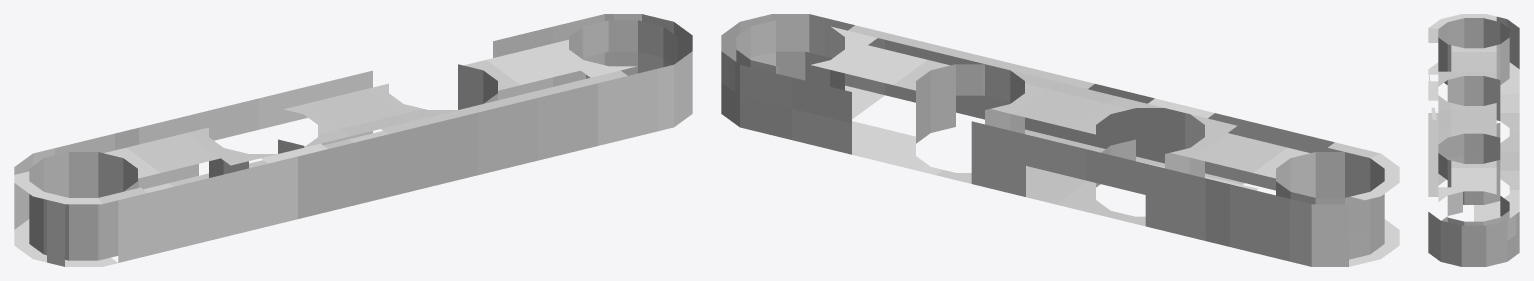
File: bracket4x.obj
3 renders of one model, left to right at view 1: azimuth 30°, elevation 25°; view 2: azimuth 150°, elevation 25°; view 3: azimuth 270°, elevation 25°, orthographic. The views are drawn at different scales.
Parts seen in each view (by area): view 1: tube; view 2: tube; view 3: tube.
Boxes of the visible parts, x1,y1,x2,y2 form: tube: (14,14,692,266); tube: (721,14,1399,266); tube: (1428,14,1519,266).
Size of the model in its own units: 1.38 by 0.125 by 0.25.
